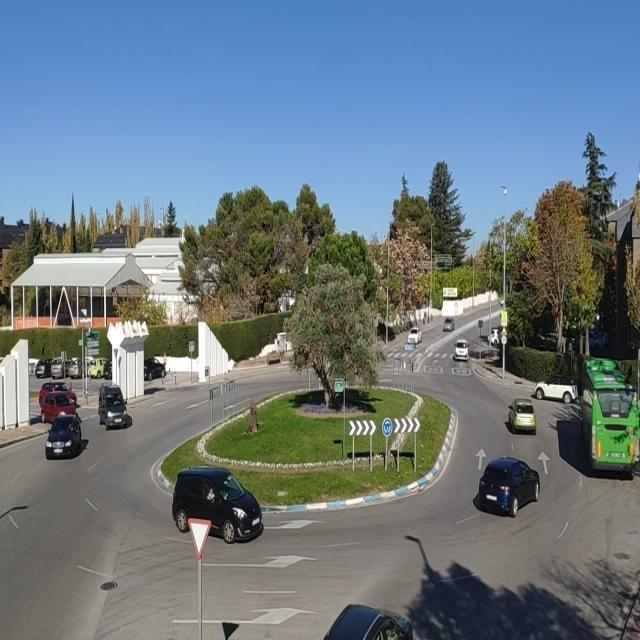Bus: (574, 329, 640, 478)
Car: (168, 457, 276, 547), (474, 447, 541, 533), (41, 415, 84, 470), (497, 398, 549, 440), (32, 396, 91, 429), (528, 368, 574, 402), (97, 399, 136, 432), (444, 332, 477, 370)
